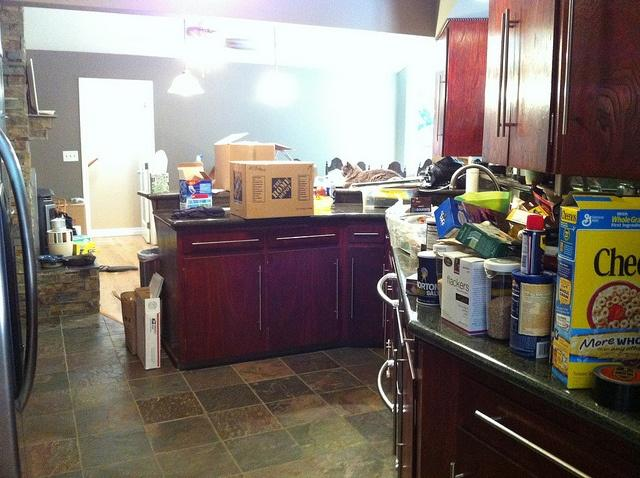Lemari: (178, 213, 389, 370), (480, 0, 563, 173)
